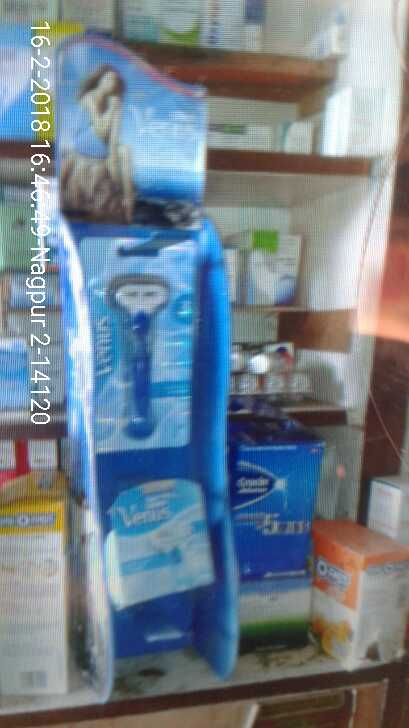venus: (81, 235, 190, 445), (106, 480, 216, 598)
